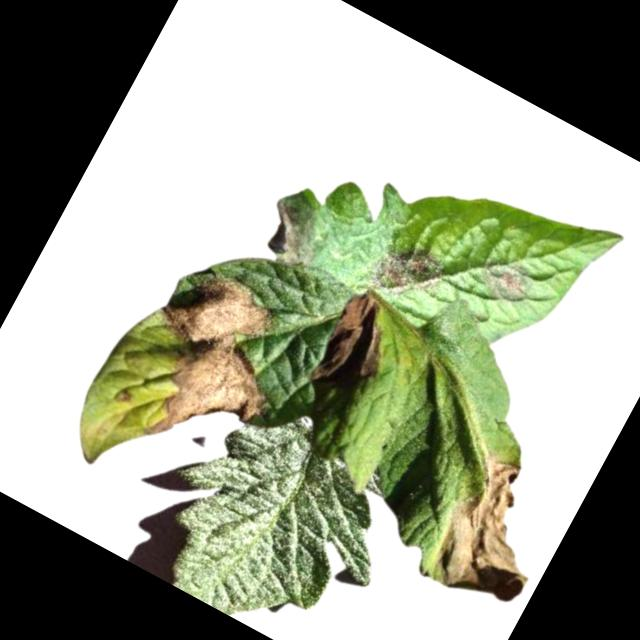Late_blight: (103, 252, 319, 481), (415, 446, 581, 624), (306, 282, 411, 407), (364, 231, 456, 319), (249, 190, 335, 281), (470, 247, 541, 313)
